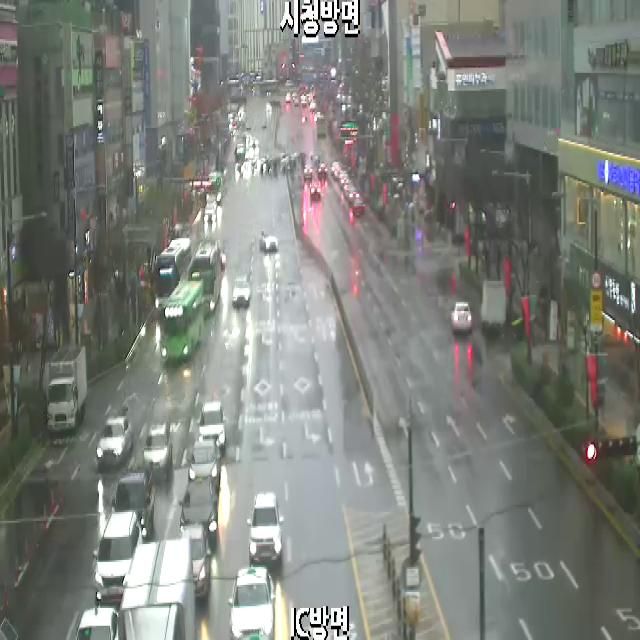Bus: (161, 280, 204, 363), (155, 238, 191, 314), (188, 245, 222, 312)
Car: (94, 512, 142, 606), (228, 565, 277, 640), (112, 469, 155, 537), (179, 477, 218, 548), (247, 492, 284, 566), (178, 524, 212, 597), (96, 417, 132, 465), (188, 441, 222, 491), (143, 422, 172, 477), (198, 402, 226, 453), (75, 608, 118, 640), (451, 303, 472, 332), (232, 276, 251, 307), (259, 232, 279, 253), (206, 188, 222, 205), (218, 240, 226, 271), (353, 196, 365, 213), (204, 205, 216, 222), (304, 165, 314, 181), (349, 188, 360, 202), (310, 187, 321, 200), (318, 162, 328, 176), (345, 186, 356, 198), (343, 180, 353, 193), (340, 177, 350, 188), (331, 162, 340, 174), (339, 170, 348, 182), (334, 167, 341, 180)
Truck: (118, 538, 195, 640), (44, 345, 87, 432), (479, 281, 506, 334)
